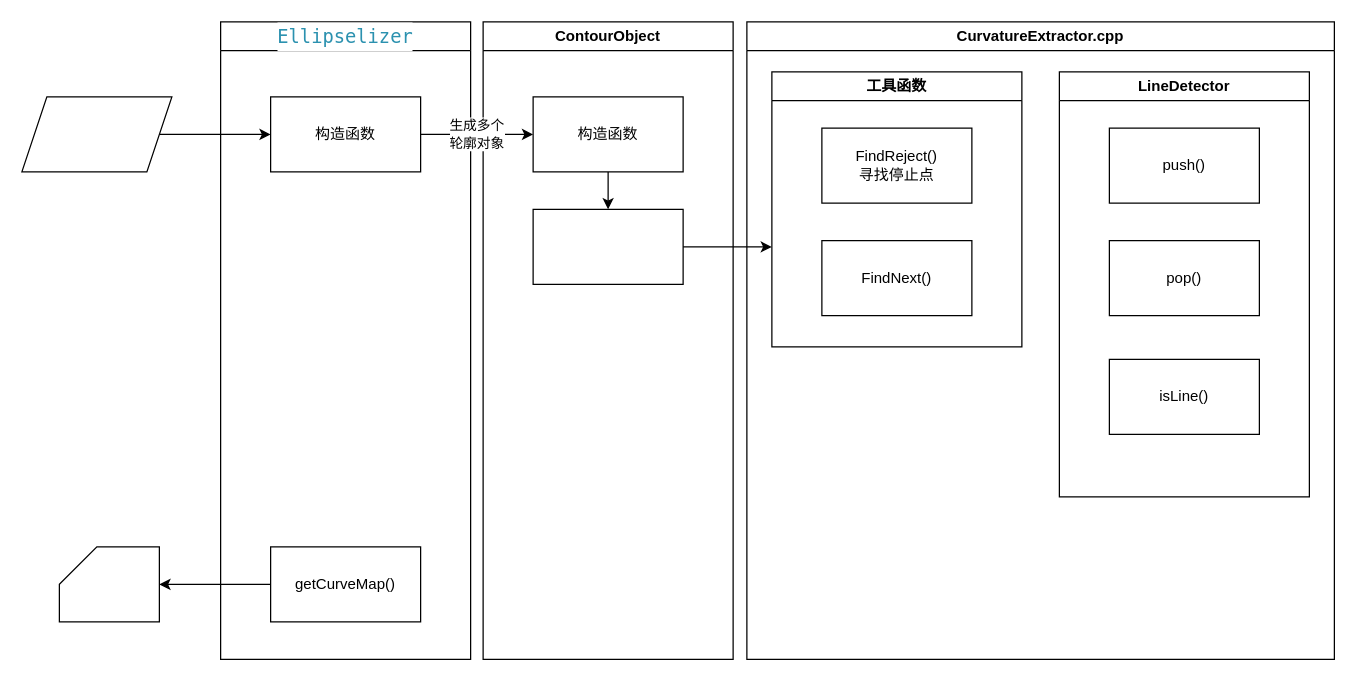
The diagram is 1356 pixels wide and 681 high, and some of its shapes have lost their labels. Here are the shapes that lost their labels. From the top down, the centre of each, then its label:
At point (96, 134): "二值轮廓图像".
At point (607, 246): "UpdateCurvature() 估计曲率".
At point (108, 584): "曲率 可视化结果".
